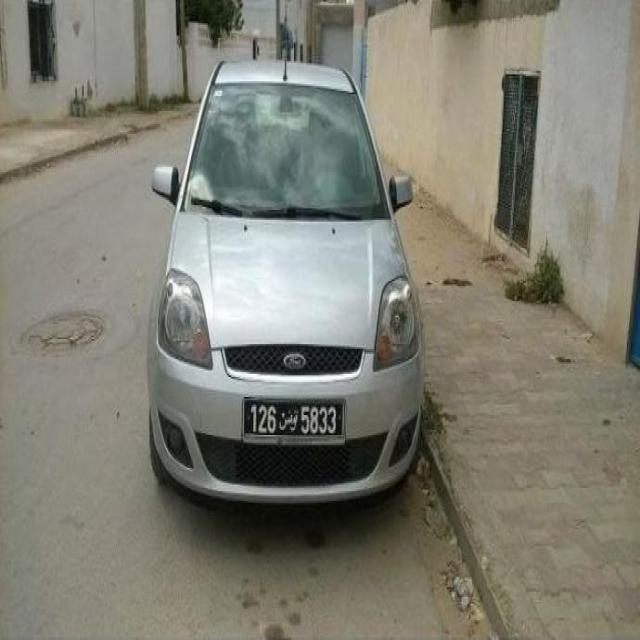LP: (242, 398, 345, 439)
